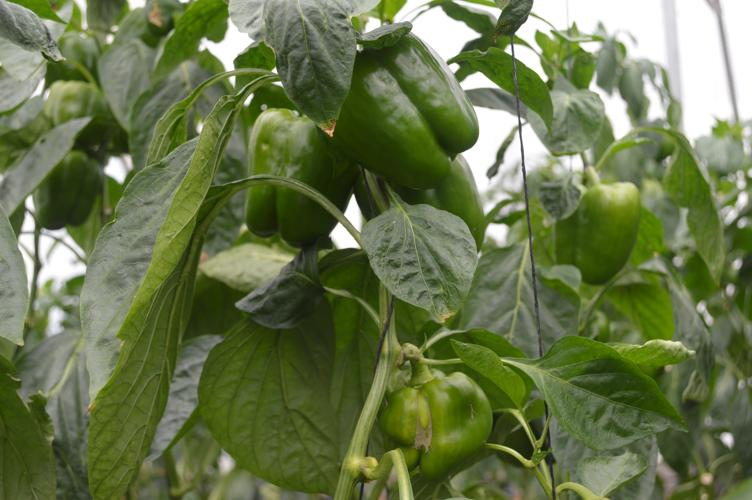BellPepper: (318, 36, 485, 198), (234, 101, 354, 252), (379, 360, 499, 477), (542, 168, 652, 289), (14, 144, 108, 234), (32, 70, 118, 151)
